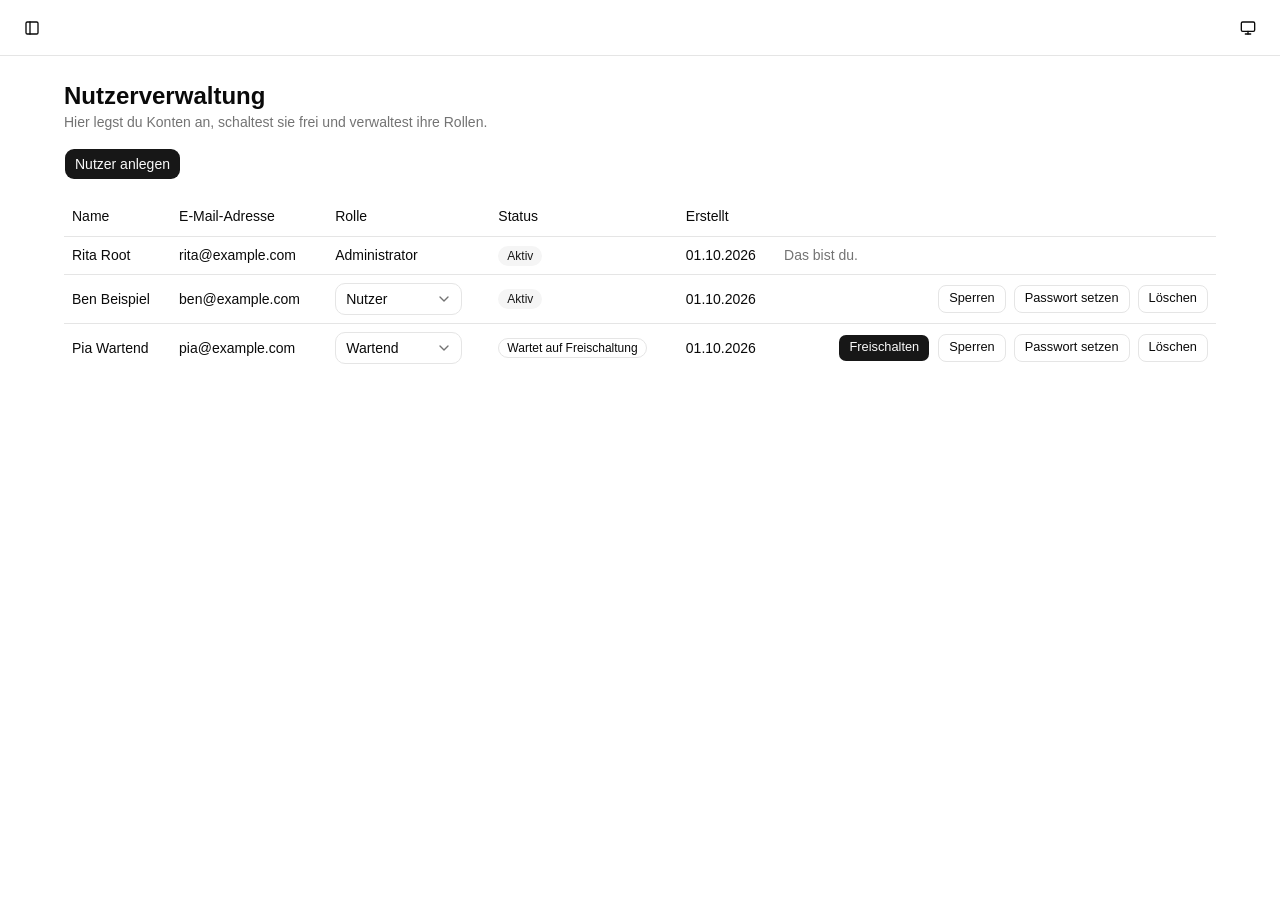
AdminUsersPage: set a password › sends nothing when the password is empty
The width and height of the screenshot is (1280, 900).
Expected: the heading "Nutzerverwaltung" is shown, [64,82,265,109]
What coordinates should you click on to do the following:
click the button with aria-label "Passwort für Ben Beispiel setzen"
I would click on:
 (1072, 298)
Its box is [1014,284,1130,312].
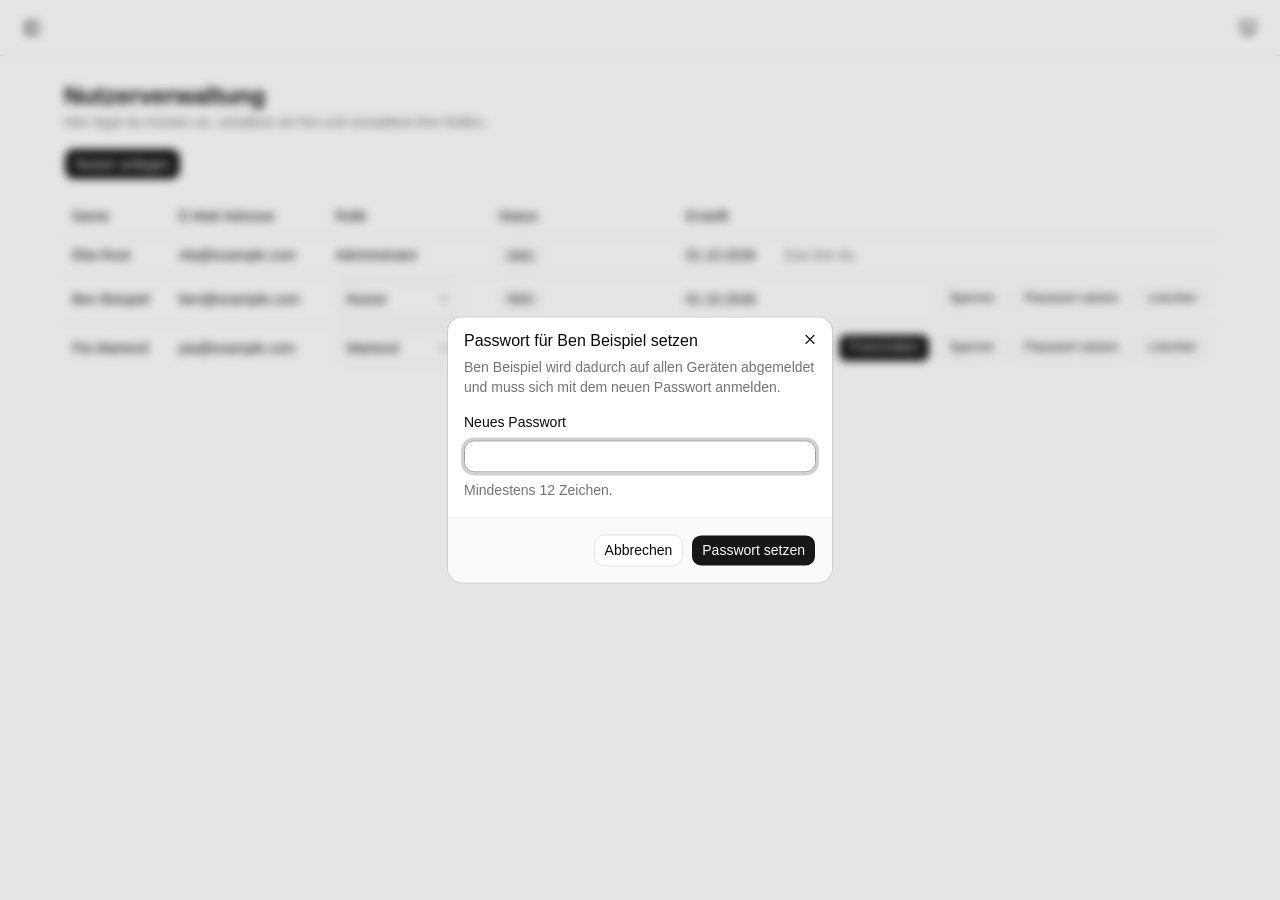
What coordinates should you click on to do the following:
click the button "Passwort setzen"
I would click on:
 (754, 551)
Its box is [691,535,816,567].
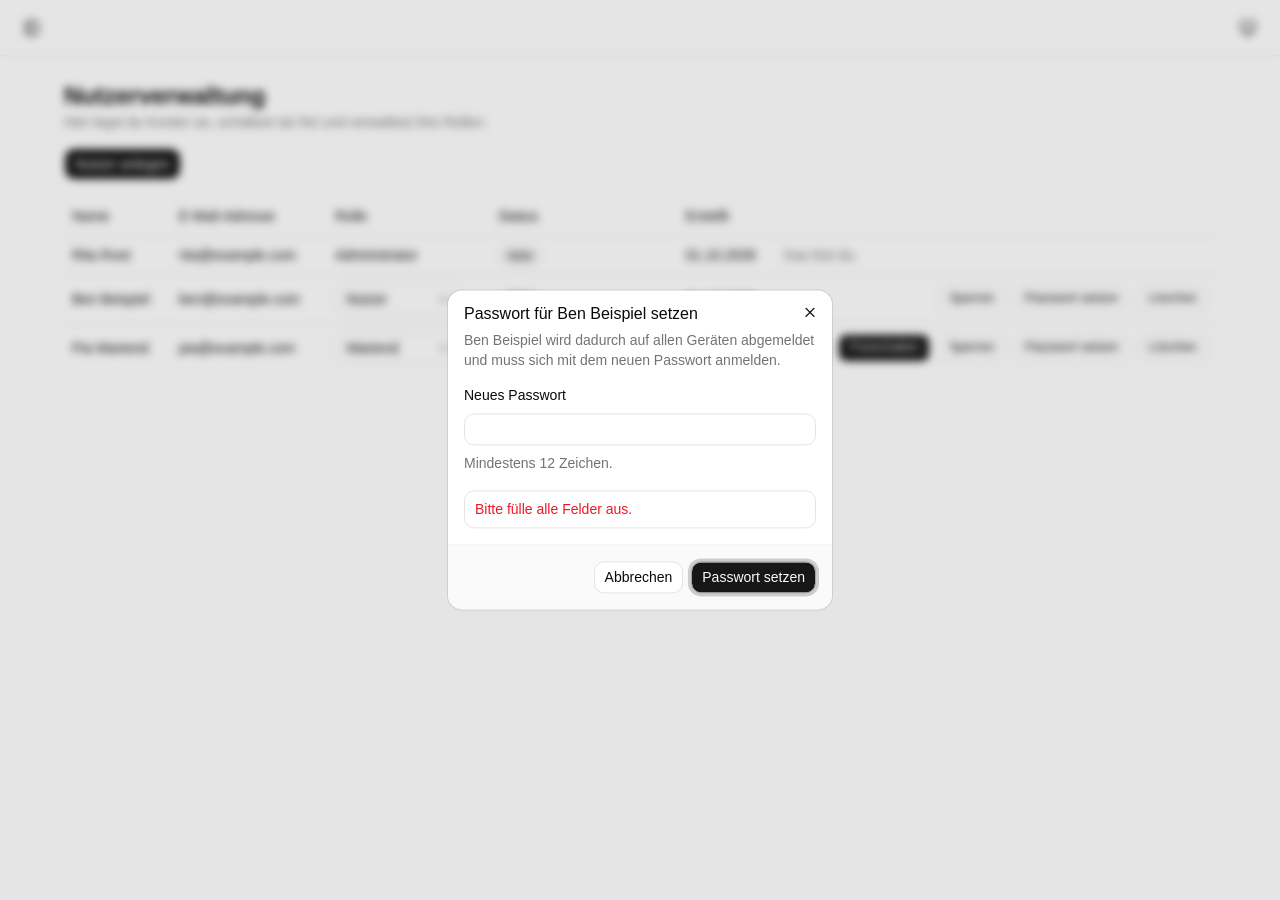
Expected: the text "Bitte fülle alle Felder aus." is shown, [475,502,632,518]
